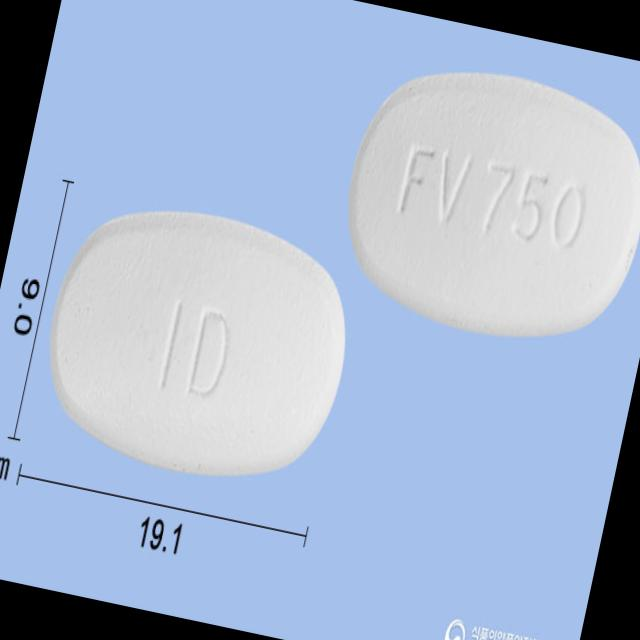Famvir -750mg: (28, 183, 370, 503), (324, 44, 640, 362)
